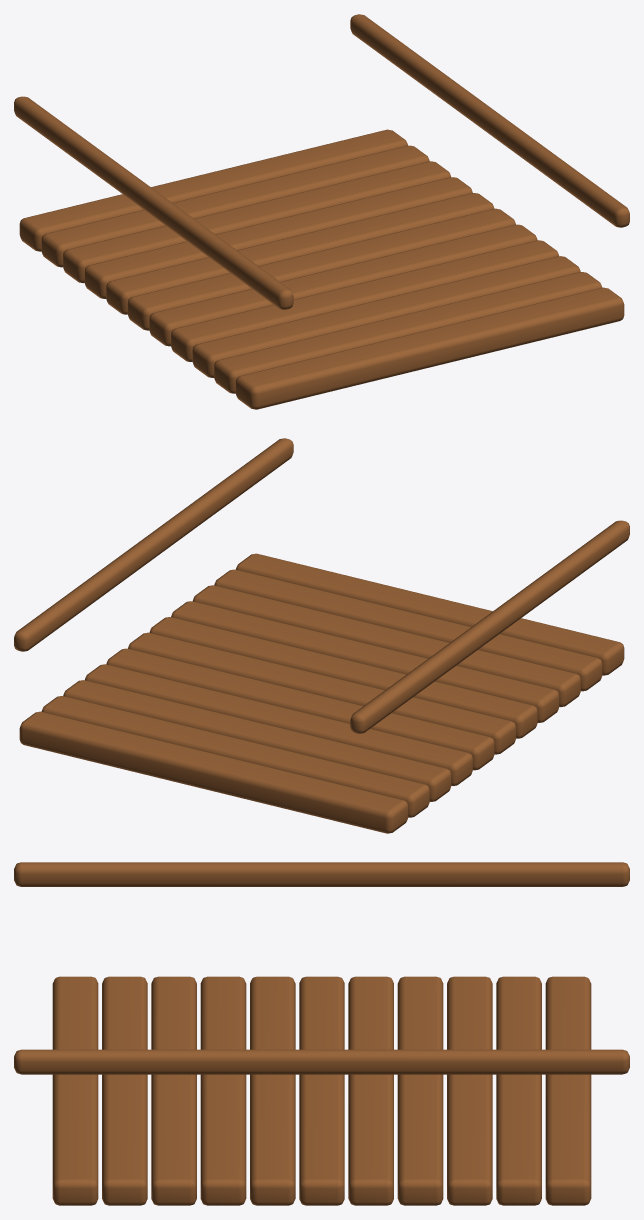
The model's file is BSC-21.glb.
3 views of the same model, one above another, from view 1: azimuth 30°, elevation 25°; view 2: azimuth 150°, elevation 25°; view 3: azimuth 270°, elevation 25° (orthographic). The views are drawn at different scales.
Visible parts, largest first — view 1: bridge plank, bridge plank.002, bridge plank.001, bridge plank.003, bridge plank.004, bridge plank.005, bridge plank.010, bridge plank.007, bridge plank.008, bridge plank.009, bridge plank.006, handrail (+1 smaller); view 2: bridge plank.010, bridge plank.008, bridge plank.009, bridge plank.007, bridge plank.006, bridge plank.005, bridge plank, bridge plank.003, bridge plank.002, bridge plank.001, bridge plank.004, handrail (+1 smaller); view 3: handrail.001, handrail, bridge plank, bridge plank.003, bridge plank.007, bridge plank.010, bridge plank.001, bridge plank.002, bridge plank.008, bridge plank.009, bridge plank.004, bridge plank.005 (+1 smaller).
Boxes of the visible parts, bbox=[...] form: bridge plank: bbox=[235, 287, 624, 409]; bridge plank.002: bbox=[192, 256, 580, 377]; bridge plank.001: bbox=[214, 272, 602, 393]; bridge plank.003: bbox=[171, 240, 558, 361]; bridge plank.004: bbox=[149, 224, 537, 346]; bridge plank.005: bbox=[127, 208, 515, 330]; bridge plank.010: bbox=[19, 129, 407, 251]; bridge plank.007: bbox=[84, 177, 472, 298]; bridge plank.008: bbox=[63, 161, 450, 283]; bridge plank.009: bbox=[41, 145, 429, 267]; bridge plank.006: bbox=[106, 193, 494, 314]; handrail: bbox=[14, 96, 293, 309]; bridge plank.010: bbox=[19, 711, 408, 833]; bridge plank.008: bbox=[63, 680, 451, 801]; bridge plank.009: bbox=[41, 696, 429, 817]; bridge plank.007: bbox=[85, 664, 472, 785]; bridge plank.006: bbox=[106, 648, 494, 770]; bridge plank.005: bbox=[128, 632, 516, 754]; bridge plank: bbox=[236, 553, 624, 675]; bridge plank.003: bbox=[171, 601, 559, 722]; bridge plank.002: bbox=[193, 585, 580, 707]; bridge plank.001: bbox=[214, 569, 602, 691]; bridge plank.004: bbox=[149, 617, 537, 738]; handrail: bbox=[350, 520, 629, 733]; handrail.001: bbox=[14, 1049, 629, 1074]; handrail: bbox=[14, 862, 629, 886]; bridge plank: bbox=[52, 976, 98, 1205]; bridge plank.003: bbox=[200, 976, 246, 1205]; bridge plank.007: bbox=[397, 976, 443, 1205]; bridge plank.010: bbox=[545, 976, 591, 1205]; bridge plank.001: bbox=[102, 976, 147, 1205]; bridge plank.002: bbox=[151, 976, 196, 1205]; bridge plank.008: bbox=[447, 976, 492, 1205]; bridge plank.009: bbox=[496, 976, 541, 1205]; bridge plank.004: bbox=[250, 976, 295, 1205]; bridge plank.005: bbox=[299, 976, 344, 1205].
Size of the model in its own units: 2 by 0.66 by 2.5.
